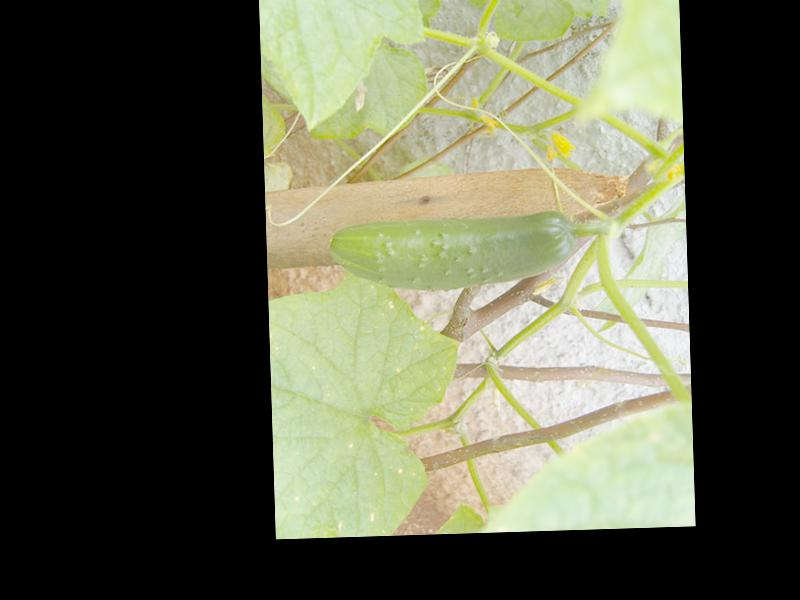Cucumber: (328, 209, 579, 294)
